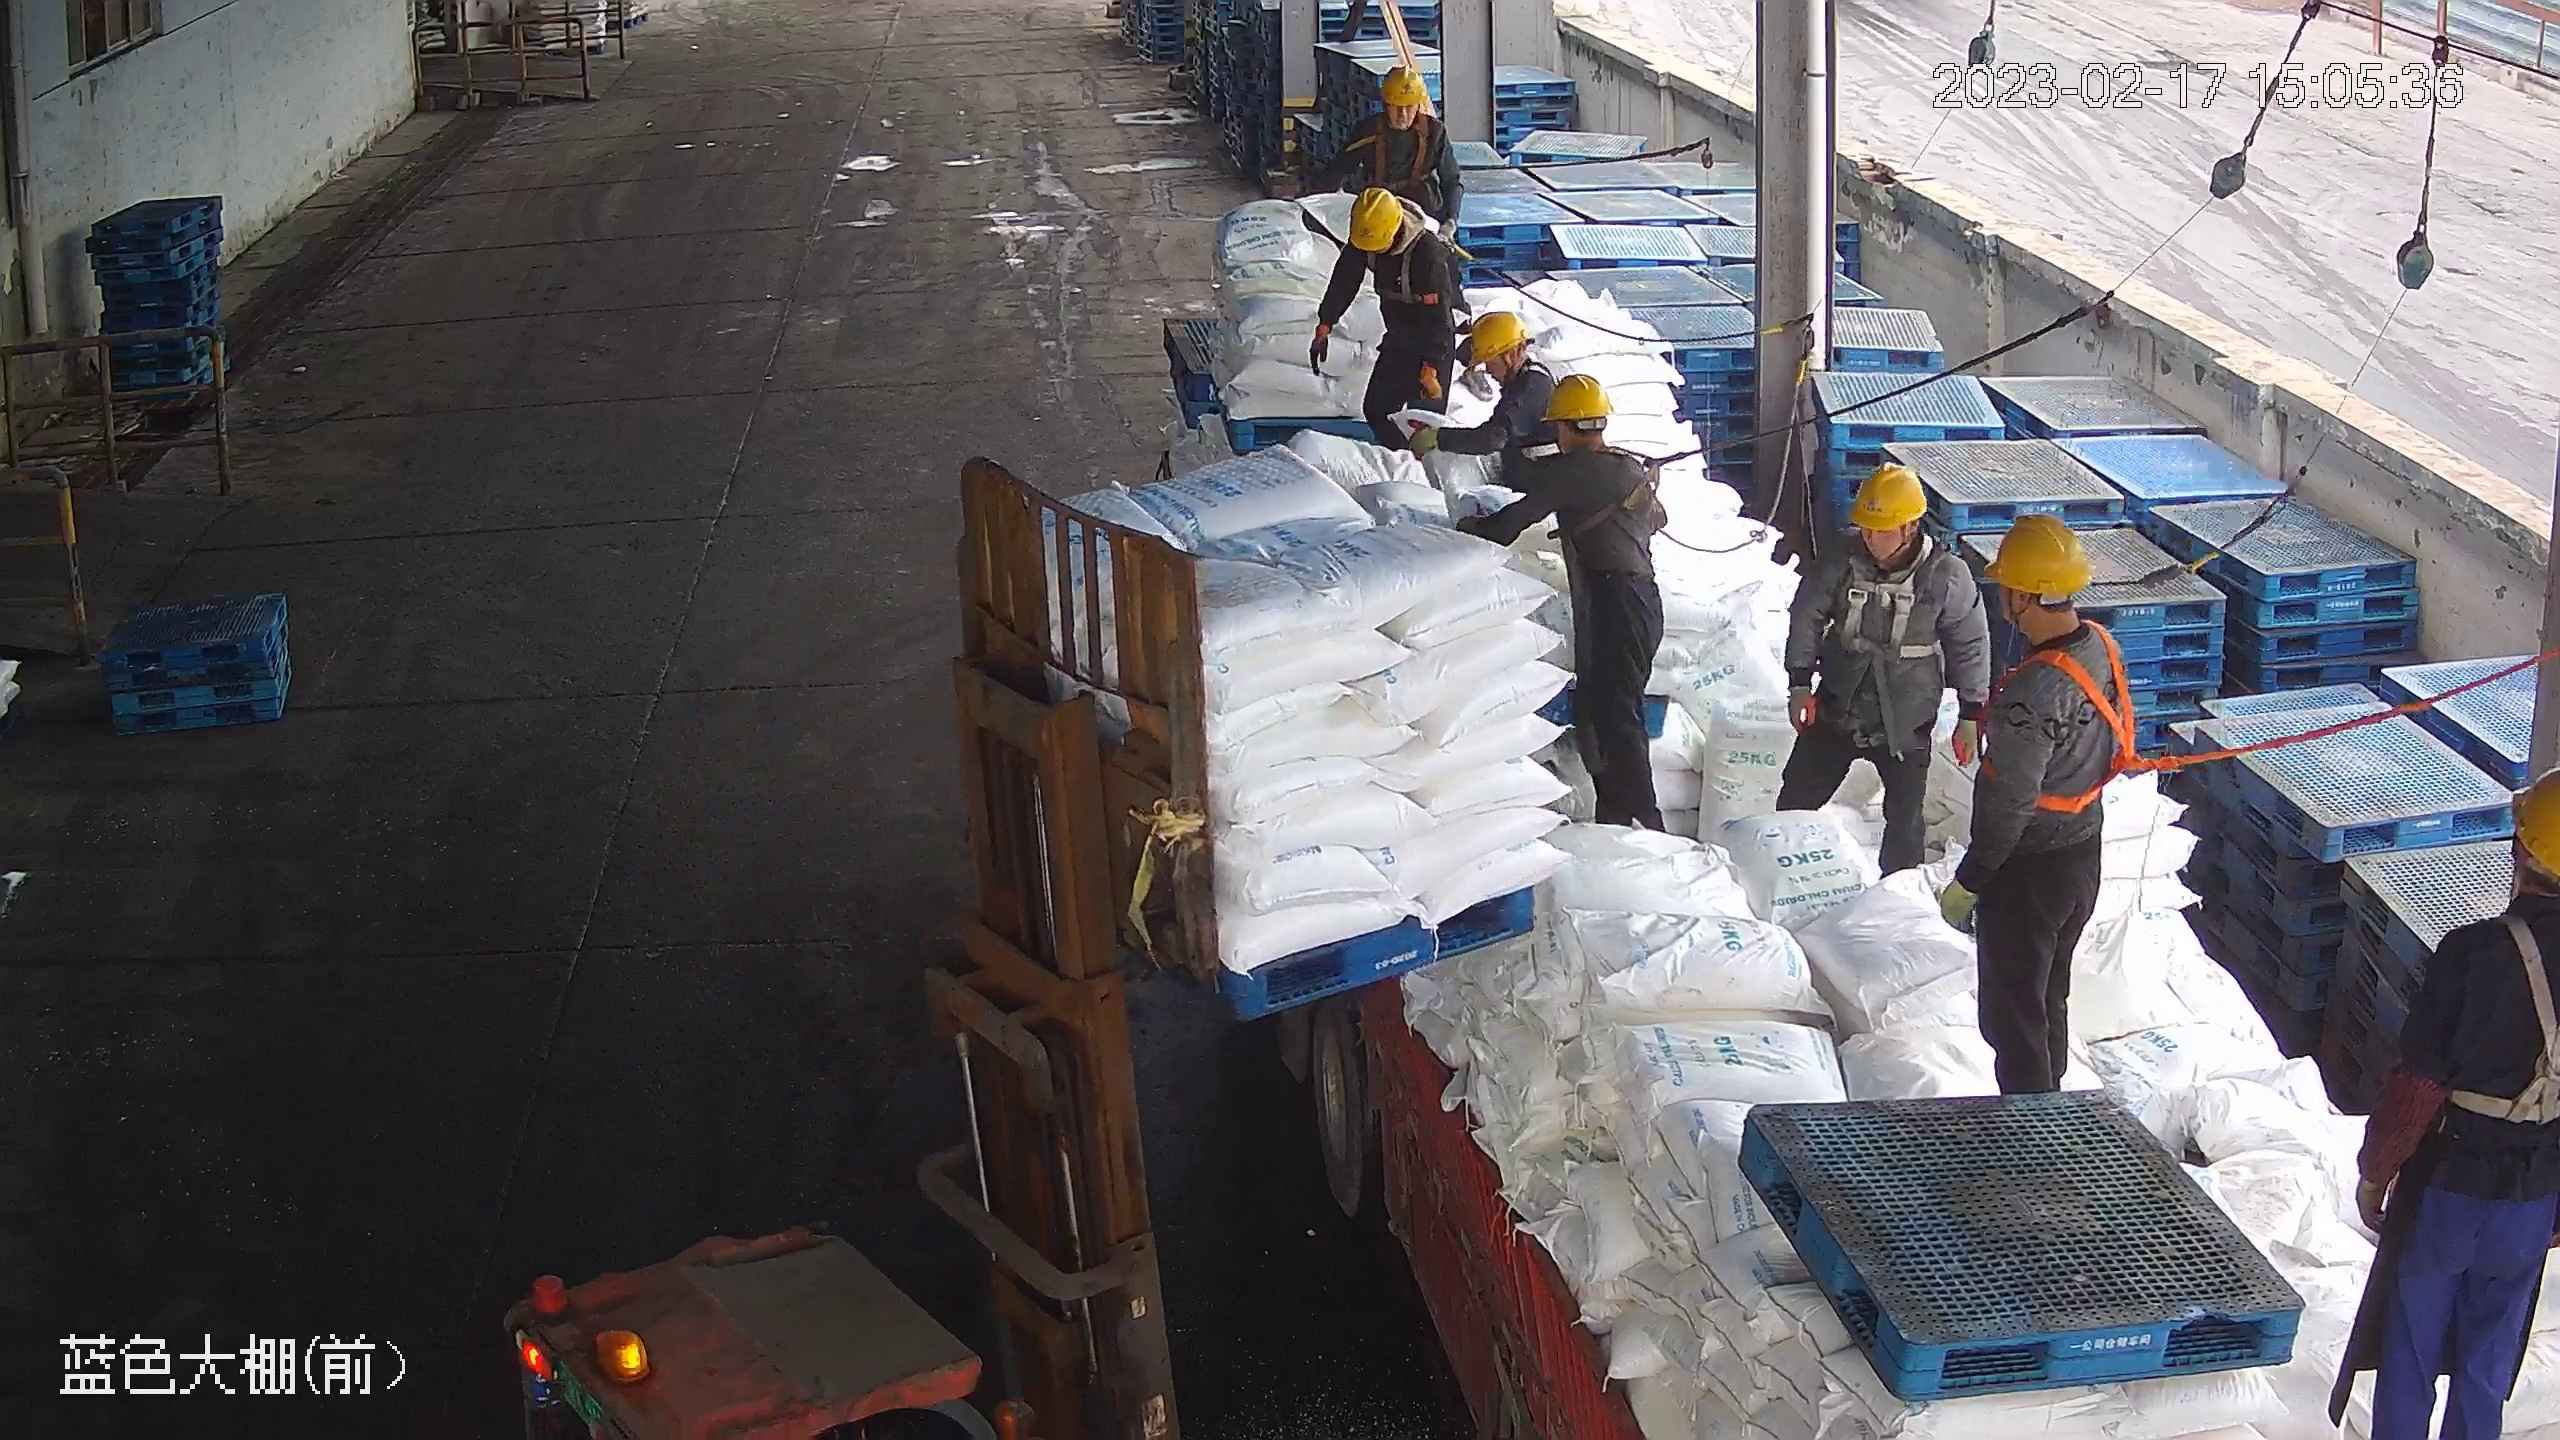belt: (1993, 631, 2162, 822), (2438, 893, 2560, 1141), (1831, 537, 1948, 657), (1566, 434, 1686, 529), (1364, 210, 1461, 309), (1365, 108, 1444, 191)
head: (1969, 509, 2134, 722), (2434, 762, 2556, 1027), (1803, 460, 1969, 614), (1521, 371, 1662, 509), (1330, 188, 1453, 298), (1452, 305, 1567, 414), (1353, 64, 1451, 165)
helmet: (1980, 511, 2094, 593), (2510, 763, 2559, 887), (1848, 461, 1928, 530), (1344, 185, 1404, 255), (1537, 371, 1615, 425), (1465, 308, 1531, 364), (1379, 63, 1428, 106)
people: (2330, 765, 2560, 1435), (1930, 501, 2125, 1095), (1451, 367, 1673, 832), (1775, 457, 1981, 889), (1308, 187, 1473, 451), (1325, 60, 1473, 271)
truck: (1168, 173, 2530, 1440)
